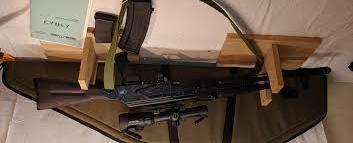larga: (32, 51, 332, 132)
